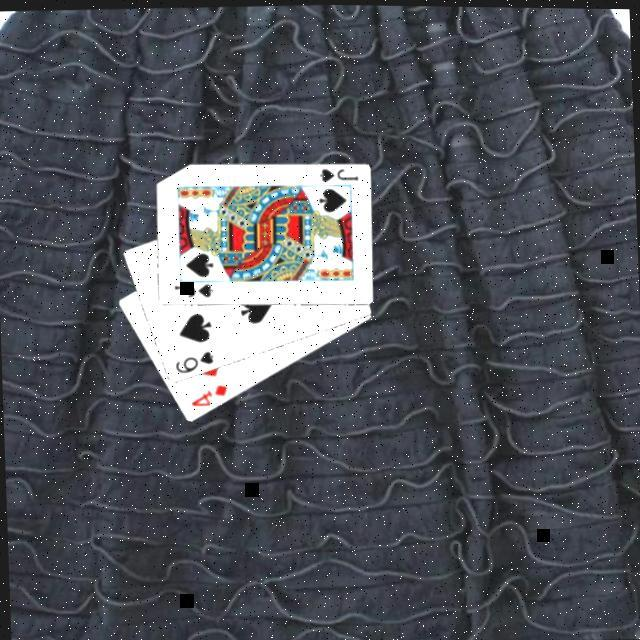4D: (185, 378, 230, 409)
6S: (170, 345, 215, 376)
JS: (170, 278, 215, 301), (315, 163, 360, 184)
